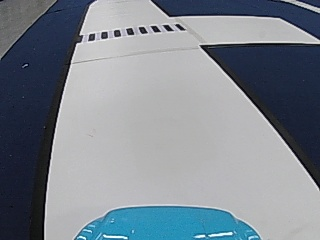CrossWalk: (77, 20, 188, 48)
